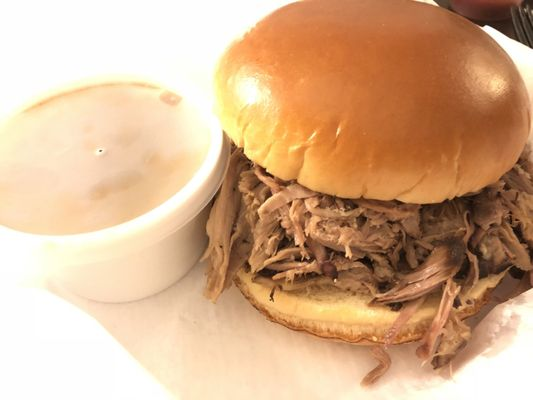soup: (208, 0, 533, 367)
sushi: (0, 71, 231, 305)
